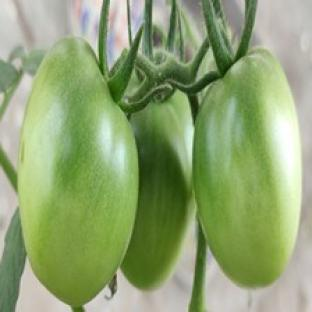Tomato: (19, 38, 137, 306), (194, 49, 302, 286), (122, 92, 193, 289)
